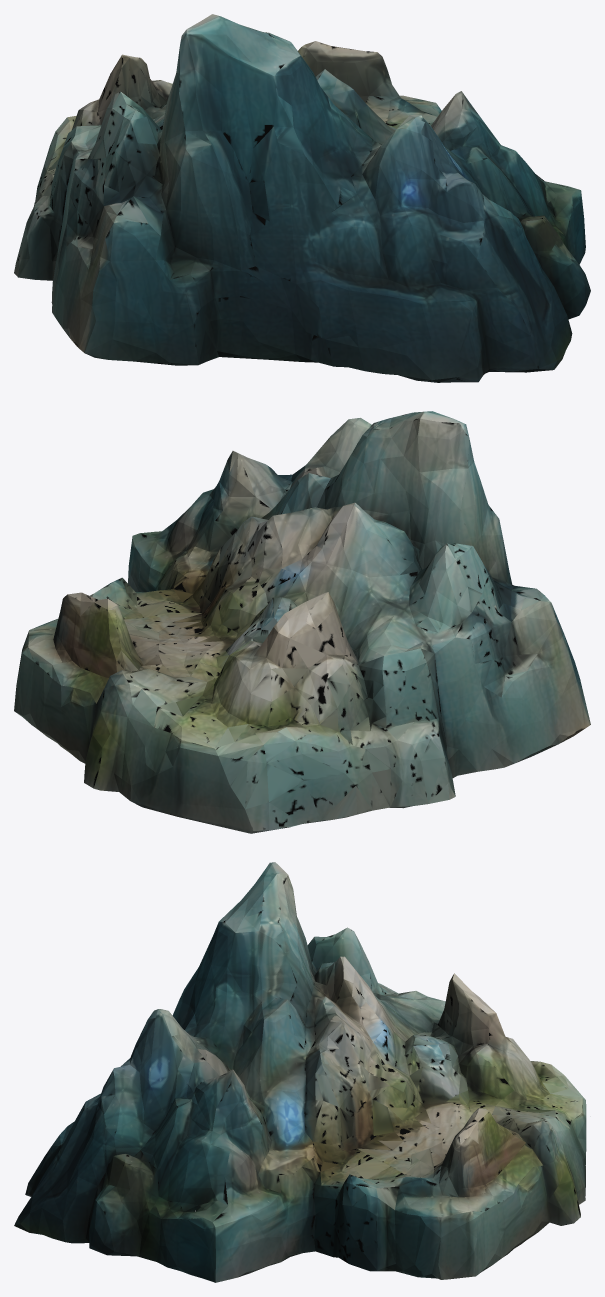
Rendered from rock_13.glb.
3 views of the same model, one above another, from view 1: azimuth 30°, elevation 25°; view 2: azimuth 150°, elevation 25°; view 3: azimuth 270°, elevation 25° (orthographic). The views are drawn at different scales.
Visible parts, largest first — view 1: test (3); view 2: test (3); view 3: test (3).
Boxes of the visible parts, x1,y1,x2,y2 form: test (3): [14, 14, 590, 382]; test (3): [14, 411, 590, 833]; test (3): [14, 862, 586, 1282].
Size of the model in its own units: 3.04 by 1.81 by 3.45.
1 material, 1 textured.
